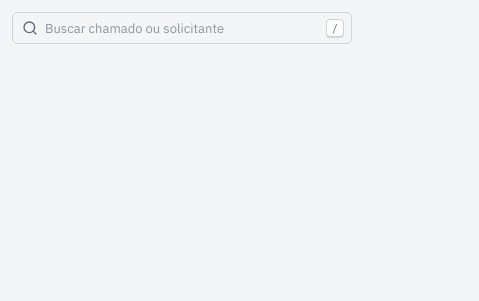
Test: SearchBox › busca com debounce e lista chamado, solicitante, data e sala
Type "mar" into the dropdown at (182, 28), box [12,12,352,44]
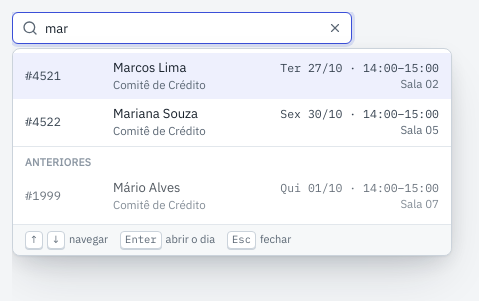
Now the number of options is 3, box [13,53,451,99]; [13,99,451,146]; [13,173,451,220]
Now the option that starts with "Marcos Lima" shows "#4521", box [13,53,451,99]
Now the option that starts with "Marcos Lima" is shown, box [13,53,451,99]
